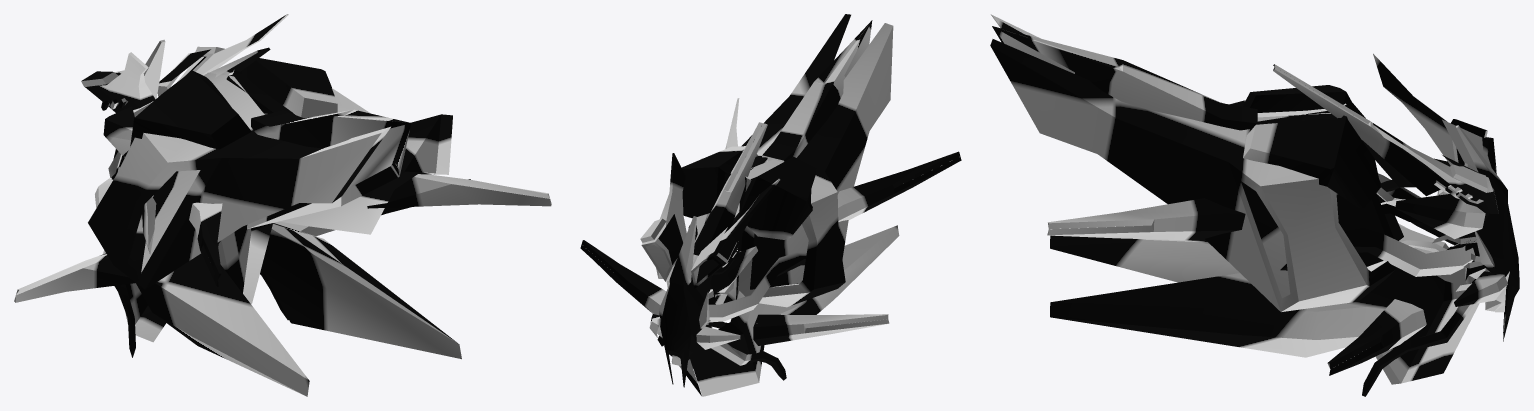
Rendered from slender.obj.
3 views of the same model, side by side, from view 1: azimuth 30°, elevation 25°; view 2: azimuth 150°, elevation 25°; view 3: azimuth 270°, elevation 25° (orthographic). The views are drawn at different scales.
Parts seen in each view (by area): view 1: saimon_LP; view 2: saimon_LP; view 3: saimon_LP.
Part boxes in pixels (left/top/right/bottom): saimon_LP: left=14, top=14, right=551, bottom=396; saimon_LP: left=580, top=14, right=961, bottom=396; saimon_LP: left=990, top=14, right=1519, bottom=396.
Size of the model in its own units: 95.14 by 75.41 by 105.
1 material, 1 textured.
